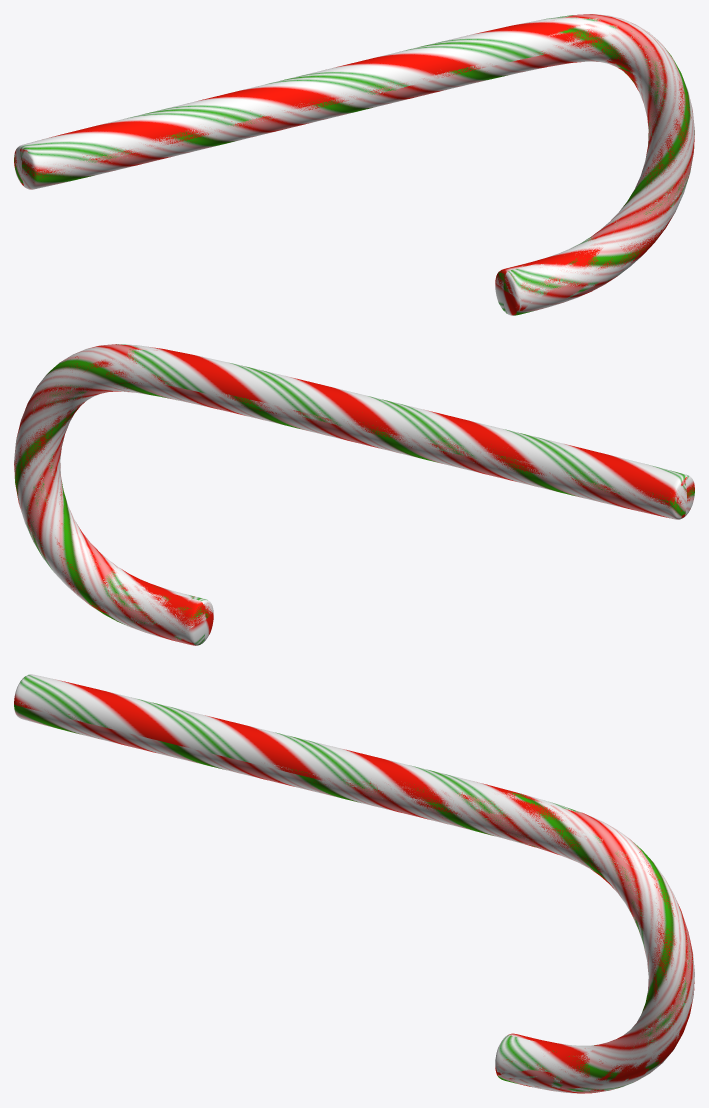
Rendered from Bat_CandyCanes.fbx.
The picture shows the model from 3 angles, top to bottom: view 1: azimuth 30°, elevation 25°; view 2: azimuth 150°, elevation 25°; view 3: azimuth 330°, elevation 25°; orthographic projection.
Parts seen in each view (by area): view 1: Candy_Cane02_Baked, Candy_Cane01_Baked; view 2: Candy_Cane02_Baked, Candy_Cane01_Baked; view 3: Candy_Cane02_Baked, Candy_Cane01_Baked.
Boxes of the visible parts, x1,y1,x2,y2 form: Candy_Cane02_Baked: (14,15,694,315); Candy_Cane01_Baked: (14,14,694,315); Candy_Cane02_Baked: (14,344,694,645); Candy_Cane01_Baked: (14,344,694,645); Candy_Cane02_Baked: (14,674,694,1092); Candy_Cane01_Baked: (14,702,694,1093).
Size of the model in its own units: 0.575 by 0.2352 by 0.0361.
